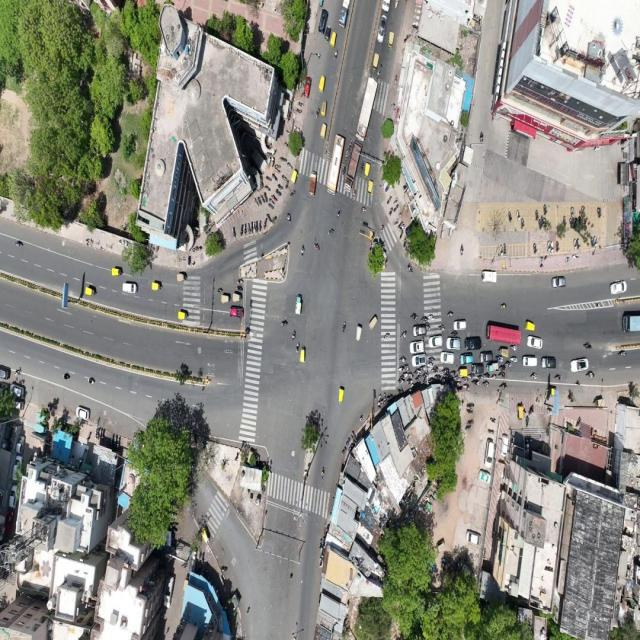3W: (337, 384, 348, 407), (293, 294, 304, 315), (298, 344, 308, 367), (175, 308, 188, 324), (318, 73, 327, 94), (522, 318, 536, 331), (84, 284, 96, 299), (320, 99, 329, 117), (320, 123, 329, 140), (371, 52, 379, 71), (108, 265, 120, 277), (149, 281, 161, 293), (388, 30, 395, 50), (517, 402, 524, 421), (176, 272, 187, 284), (499, 346, 510, 358), (290, 170, 300, 183), (487, 362, 499, 372), (330, 31, 337, 47), (458, 367, 468, 377), (325, 25, 330, 44)
Bus: (327, 133, 344, 196), (485, 322, 522, 345)
Cars: (481, 435, 498, 474), (606, 272, 631, 295), (465, 521, 484, 551), (480, 267, 498, 286), (551, 271, 568, 291), (121, 281, 139, 299), (317, 8, 329, 34), (377, 14, 387, 45), (76, 405, 91, 423), (520, 354, 539, 368), (541, 353, 557, 369), (526, 335, 543, 350), (444, 335, 462, 349), (464, 336, 483, 349), (439, 350, 455, 365), (303, 76, 313, 98), (427, 336, 443, 348), (412, 324, 427, 336), (409, 341, 425, 352), (410, 354, 426, 365), (230, 306, 244, 318), (479, 350, 494, 361), (469, 363, 485, 373), (452, 320, 467, 330), (459, 353, 474, 363)
M2W: (11, 237, 25, 251), (298, 244, 306, 259), (61, 371, 71, 382), (279, 317, 289, 328), (87, 374, 96, 386), (326, 226, 335, 238), (313, 242, 321, 254), (583, 339, 591, 351), (500, 381, 507, 394), (555, 371, 564, 381), (596, 204, 602, 219), (341, 314, 345, 336), (501, 301, 508, 313), (530, 371, 538, 381), (466, 400, 476, 408), (508, 206, 512, 226), (286, 211, 292, 224), (230, 227, 236, 240), (407, 263, 413, 276), (534, 208, 539, 223), (273, 172, 279, 184), (333, 49, 339, 61), (587, 372, 595, 381), (482, 379, 490, 388), (459, 244, 465, 255), (579, 204, 585, 215), (291, 326, 296, 339), (240, 222, 244, 238), (290, 190, 297, 199), (383, 330, 390, 339), (399, 331, 406, 340), (427, 314, 436, 321), (335, 208, 341, 218), (253, 198, 258, 210), (315, 107, 320, 119), (376, 68, 381, 80), (463, 383, 469, 393), (512, 355, 518, 365), (516, 206, 520, 221), (503, 243, 507, 258), (532, 241, 536, 256), (264, 217, 268, 231), (438, 323, 445, 331), (473, 379, 480, 387), (361, 204, 366, 215), (267, 203, 273, 212), (283, 140, 289, 149), (546, 241, 550, 254), (265, 176, 272, 183), (264, 184, 271, 191), (298, 101, 305, 108), (398, 365, 405, 372), (442, 367, 449, 374), (279, 155, 287, 161), (278, 184, 284, 192), (410, 312, 416, 320), (544, 203, 548, 215), (498, 245, 502, 257), (281, 173, 286, 182), (358, 167, 363, 176), (569, 207, 574, 216), (352, 190, 356, 201), (572, 239, 576, 250), (259, 219, 262, 233), (286, 163, 292, 170), (271, 194, 277, 201), (428, 355, 435, 361), (433, 368, 440, 374), (469, 418, 475, 425), (556, 239, 559, 253), (348, 141, 352, 151), (446, 312, 454, 317), (251, 221, 254, 234), (247, 223, 250, 235), (260, 194, 264, 203), (389, 208, 393, 217), (400, 357, 406, 363), (511, 345, 517, 351), (296, 109, 303, 114), (285, 128, 290, 135), (505, 359, 510, 366), (406, 379, 414, 383), (345, 151, 348, 161), (343, 165, 346, 175), (392, 199, 397, 205), (387, 197, 391, 204), (394, 219, 398, 226), (401, 373, 408, 377), (400, 230, 403, 239), (415, 370, 421, 374)
Truck: (355, 73, 377, 142), (345, 139, 362, 195), (309, 167, 317, 199)
